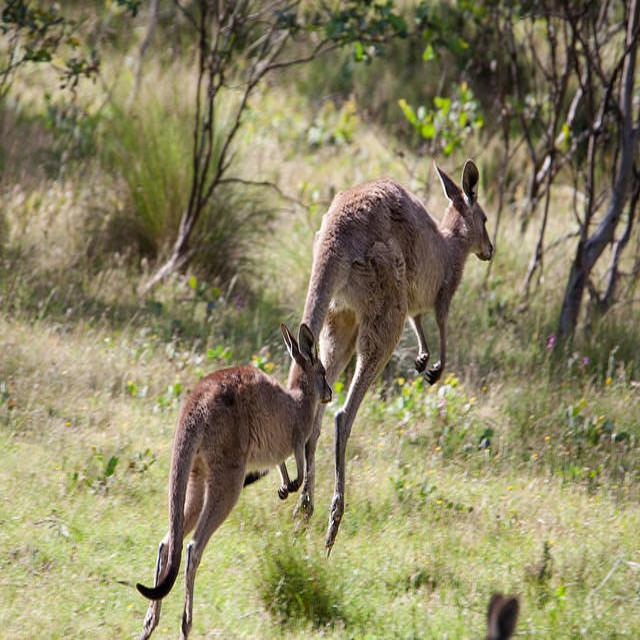kangaroo: (330, 153, 500, 551), (133, 323, 331, 636)
